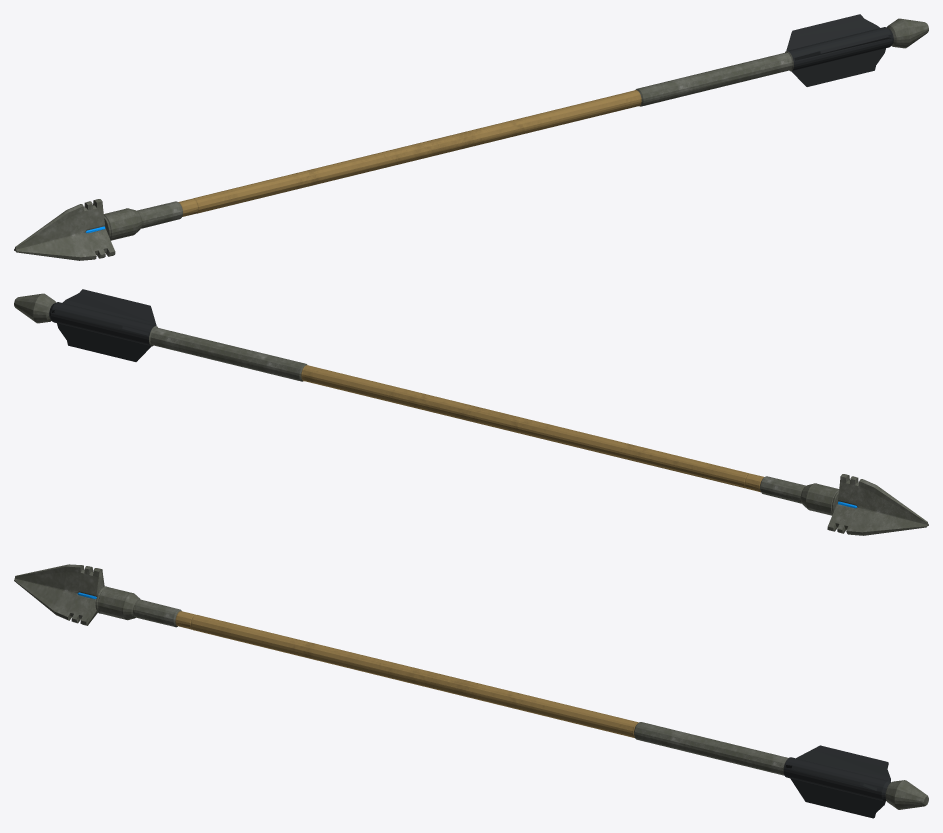
Rendered from Arrow.fbx.
3 renders of one model, top to bottom at view 1: azimuth 30°, elevation 25°; view 2: azimuth 150°, elevation 25°; view 3: azimuth 330°, elevation 25°, orthographic.
Visible parts, largest first — view 1: hanzo_arrow_LP__0; view 2: hanzo_arrow_LP__0; view 3: hanzo_arrow_LP__0.
Part boxes in pixels (x1,y1,x2,y2): hanzo_arrow_LP__0: (14,14,928,260); hanzo_arrow_LP__0: (14,289,928,535); hanzo_arrow_LP__0: (14,564,928,818).
Size of the model in its own units: 225 by 12.54 by 14.17.
